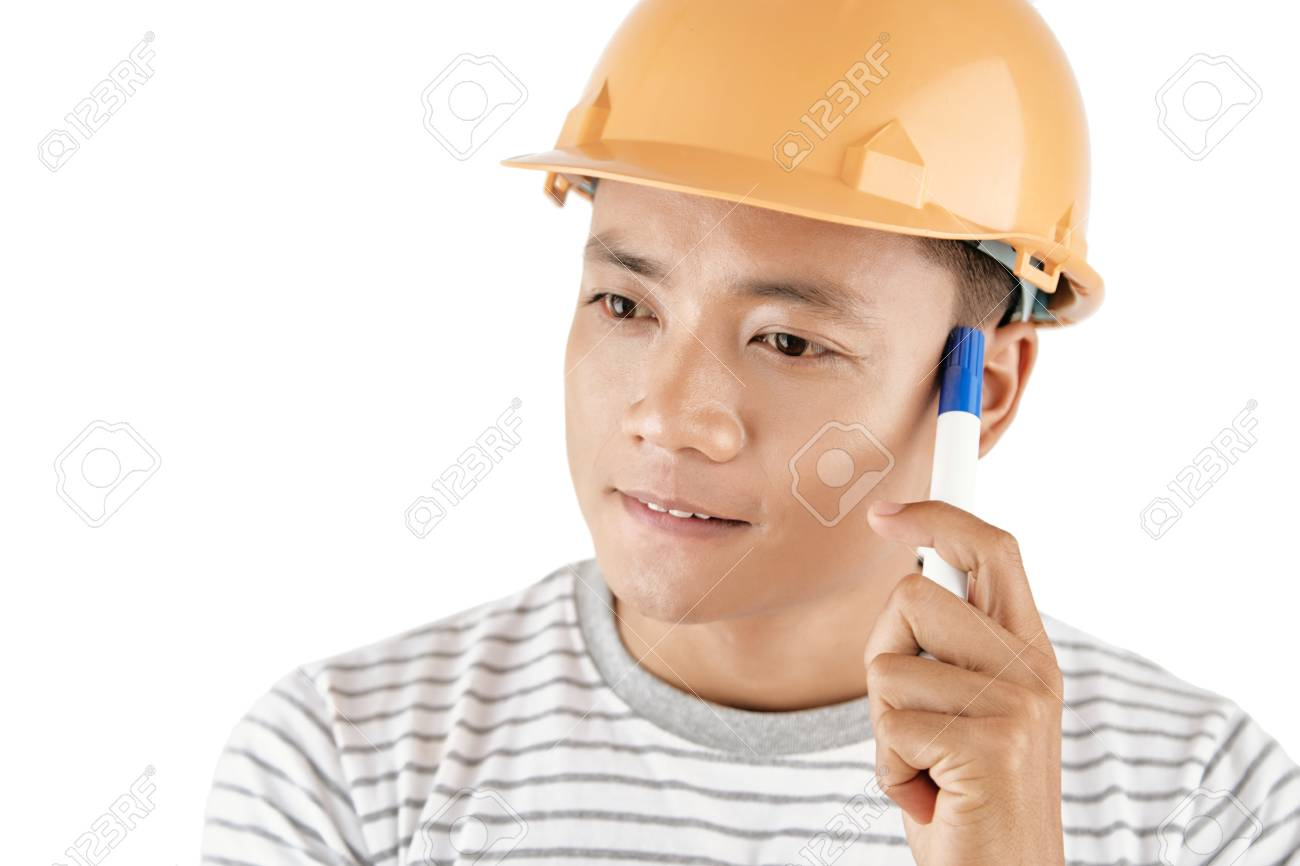Person_wearing_helmet: (487, 1, 1160, 337)
